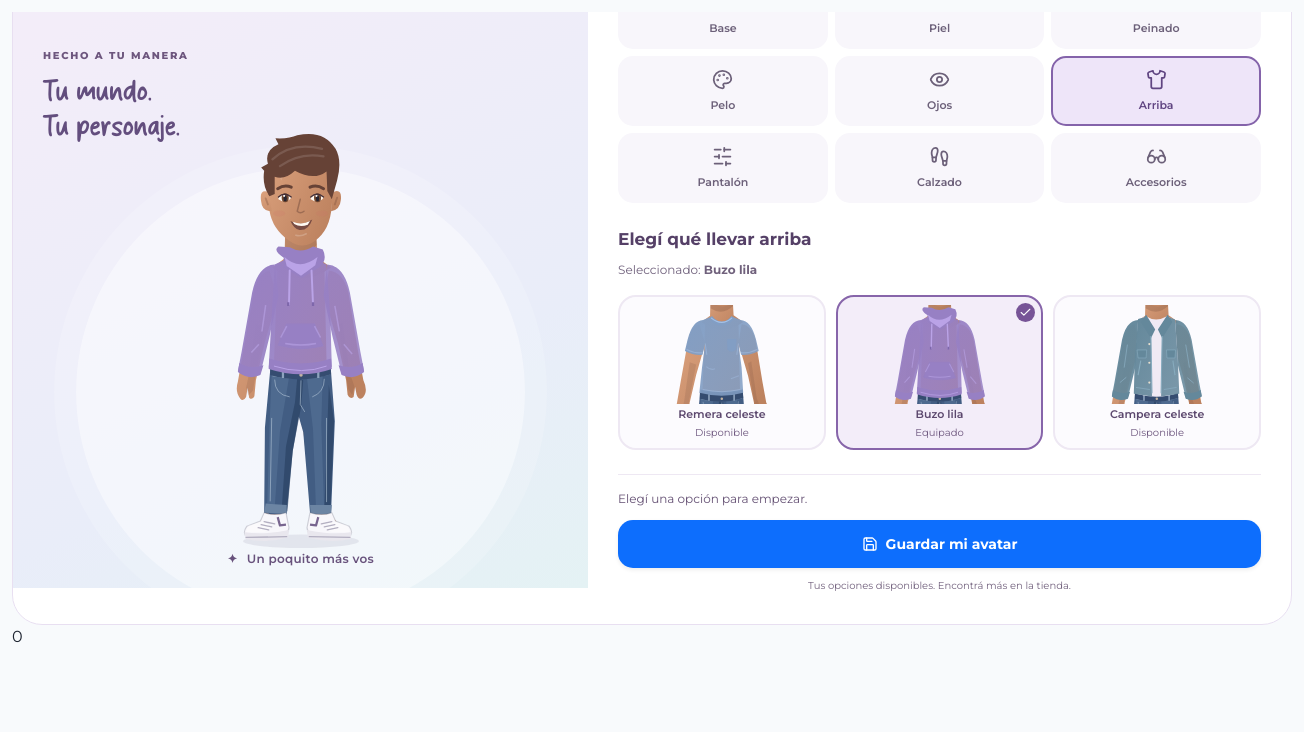
it: single shared configuration › does not claim success on a failed save
This screenshot has width=1304, height=732.
(page scrolled)
Expected: the radio button labelled "Buzo lila" is shown, [836, 295, 1043, 450]
Click the radio button labelled "Campera celeste".
click(1157, 372)  # box [1053, 295, 1261, 450]
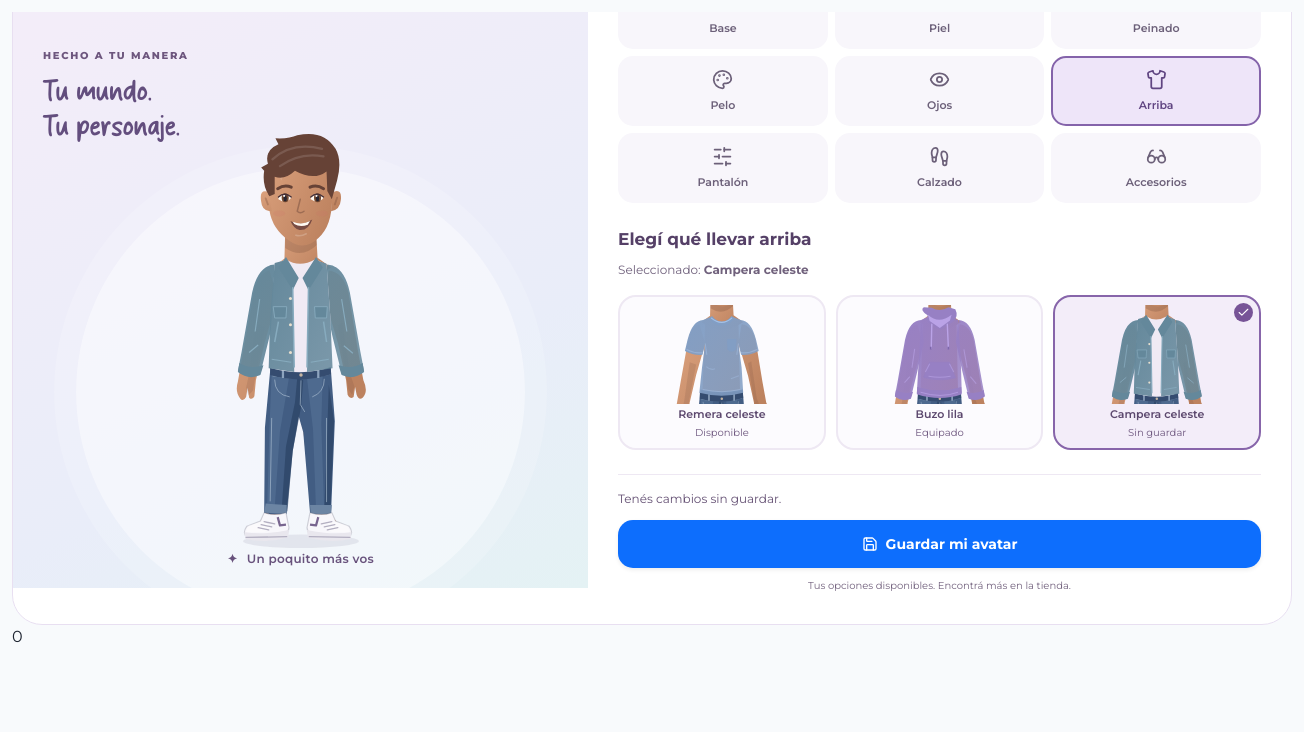
Click the button "Guardar mi avatar".
click(940, 544)  # box [618, 520, 1261, 568]
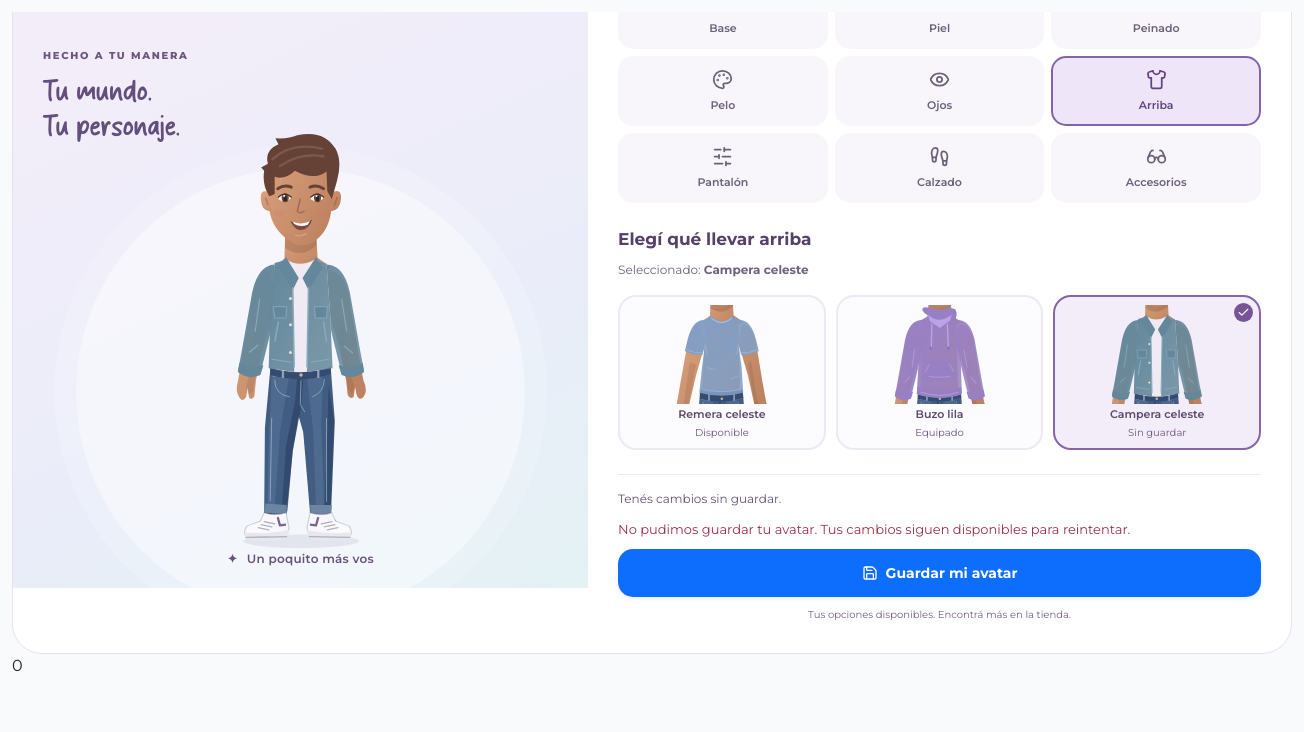
Now the message "No pudimos guardar tu avatar. Tus cambios siguen disponibles para reintentar." is shown, box [618, 521, 1130, 537]
